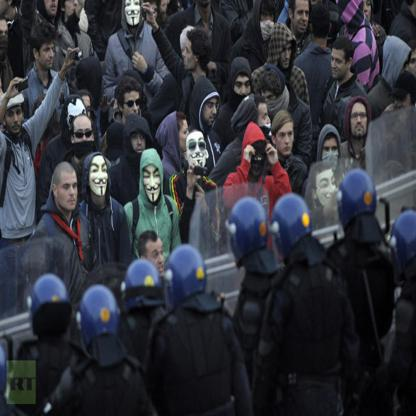face: (58, 172, 78, 211), (318, 170, 337, 208), (90, 157, 108, 197), (188, 132, 207, 168), (143, 166, 161, 203), (147, 241, 165, 278), (75, 123, 94, 158), (277, 122, 294, 155), (352, 103, 368, 138), (293, 2, 310, 34), (396, 91, 412, 124), (234, 75, 251, 106), (251, 141, 265, 177), (131, 129, 147, 160), (203, 95, 219, 126), (332, 47, 347, 79), (324, 140, 339, 171), (39, 40, 55, 69), (7, 107, 23, 135), (125, 92, 140, 121), (262, 88, 278, 115), (258, 104, 272, 134), (396, 54, 409, 86), (183, 40, 196, 71), (179, 120, 191, 153), (80, 95, 92, 126), (281, 38, 293, 68), (126, 2, 141, 25), (262, 8, 275, 33), (360, 1, 373, 24), (1, 23, 9, 57), (113, 97, 125, 119), (66, 1, 80, 17), (45, 1, 59, 16), (147, 4, 158, 23), (410, 50, 416, 83), (159, 1, 168, 12)
